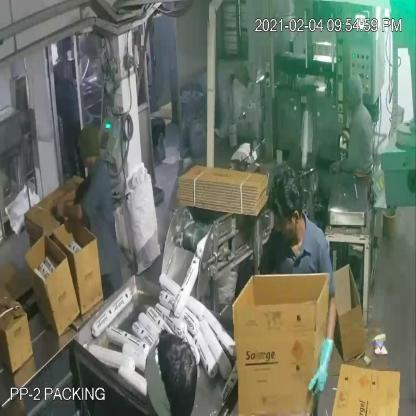glove: (309, 326, 346, 416)
no_glove: (51, 192, 87, 225)
